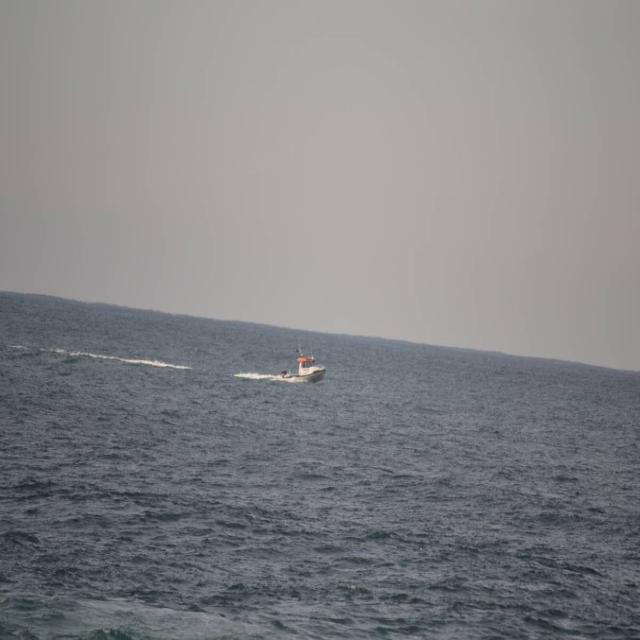houseboat: (281, 337, 327, 388)
